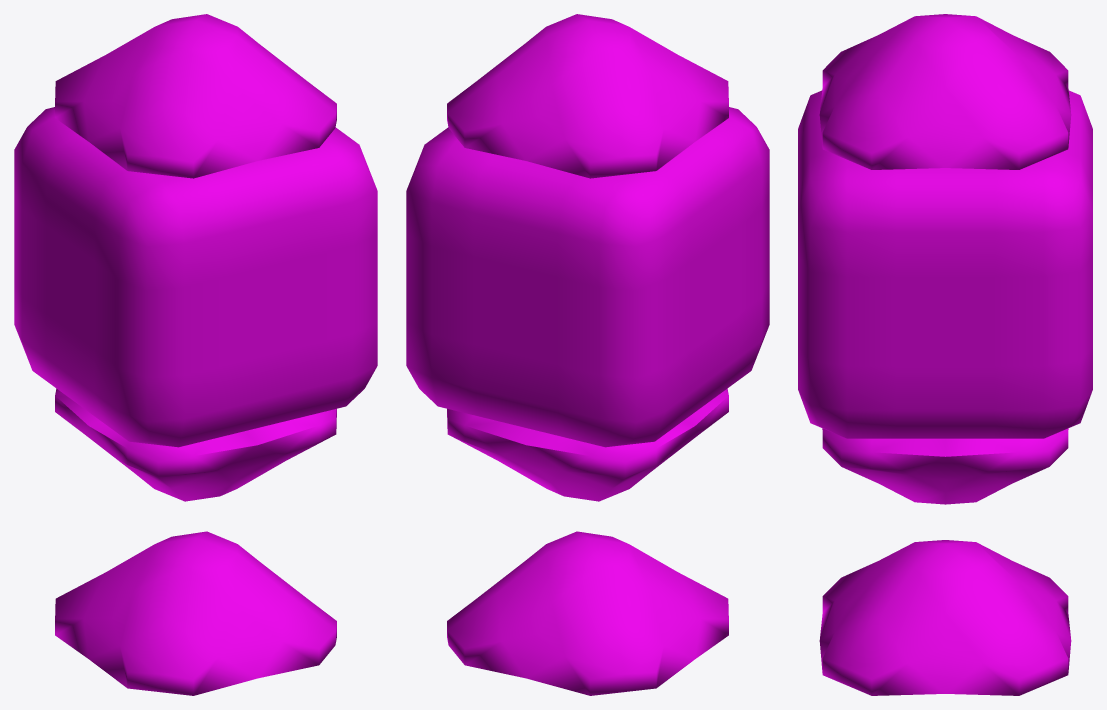
The model's file is peonRedondo001.fbx.
3 views of the same model, side by side, from view 1: azimuth 30°, elevation 25°; view 2: azimuth 150°, elevation 25°; view 3: azimuth 270°, elevation 25° (orthographic).
Visible parts, largest first — view 1: PeonRedondo; view 2: PeonRedondo; view 3: PeonRedondo.
Boxes of the visible parts, x1=… form: PeonRedondo: x1=14, y1=14, x2=377, y2=695; PeonRedondo: x1=406, y1=14, x2=769, y2=695; PeonRedondo: x1=798, y1=14, x2=1092, y2=695.
Bounding box in the file's own units: 165 × 390 × 165.
